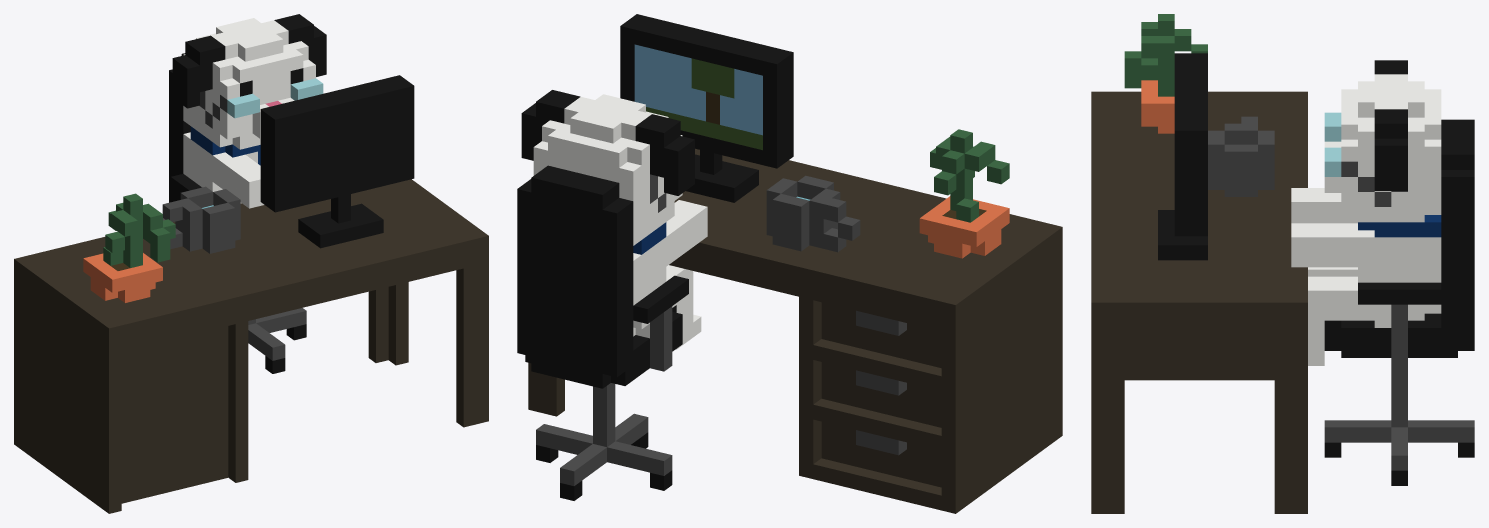
Rendered from puppermodel.glb.
3 renders of one model, left to right at view 1: azimuth 30°, elevation 25°; view 2: azimuth 150°, elevation 25°; view 3: azimuth 270°, elevation 25°, orthographic. The views are drawn at different scales.
Parts seen in each view (by area): view 1: tommys_desk; view 2: tommys_desk; view 3: tommys_desk.
Part boxes in pixels (bbox=[...]): tommys_desk: bbox=[14, 14, 488, 513]; tommys_desk: bbox=[517, 14, 1062, 513]; tommys_desk: bbox=[1091, 14, 1474, 513].
Size of the model in its own units: 3 by 2.4 by 2.3.
Materials: 1 (1 with a texture image).
